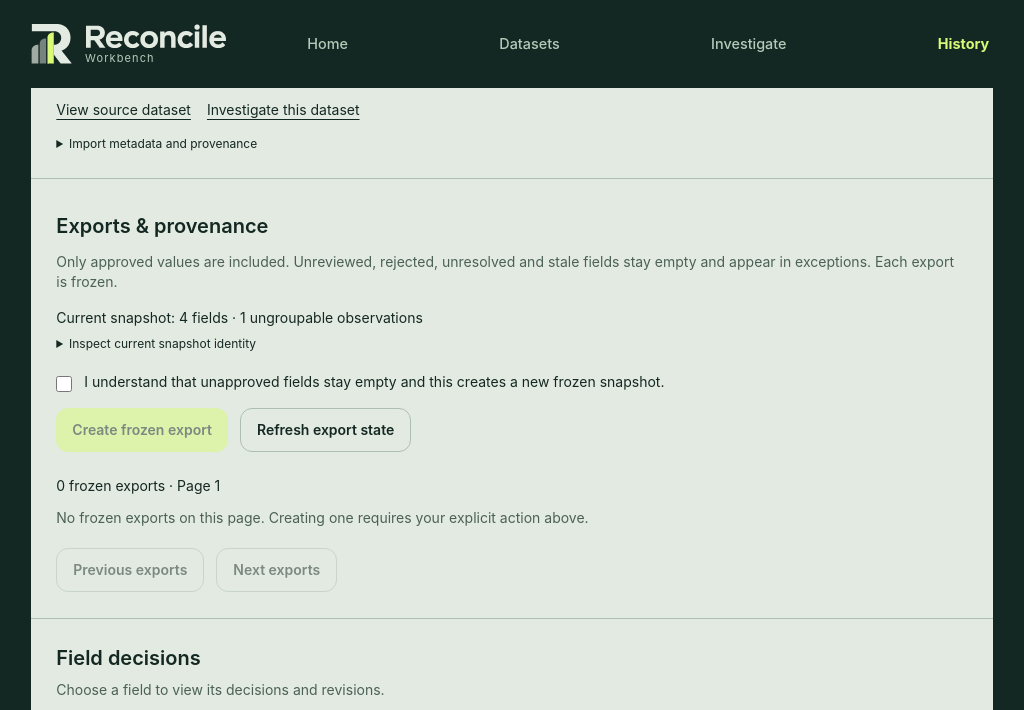
Test: retries an uncertain export with the exact same payload and disables acknowledgement changes
The image size is (1024, 710).
(page scrolled)
Check: the text "Current snapshot: 4 fields · 1 ungroupable observations" is shown, box [56, 309, 423, 326]
Click the checkbox labelled "I understand": (64, 384) [56, 376, 72, 392]
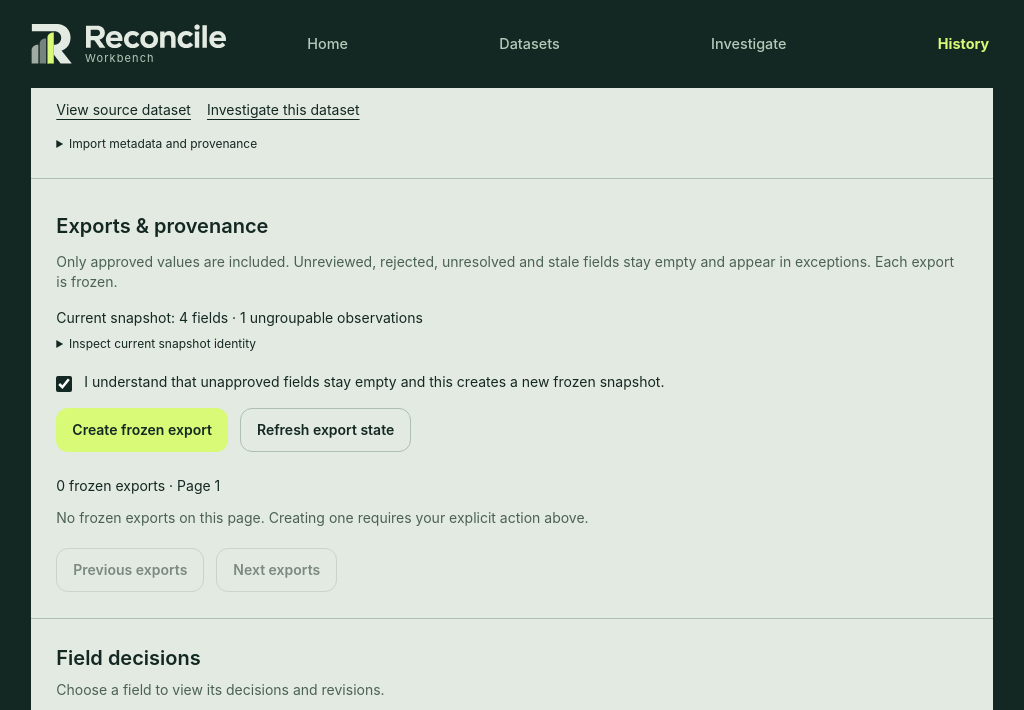
Click the button "Create frozen export": (142, 430) [56, 408, 228, 452]
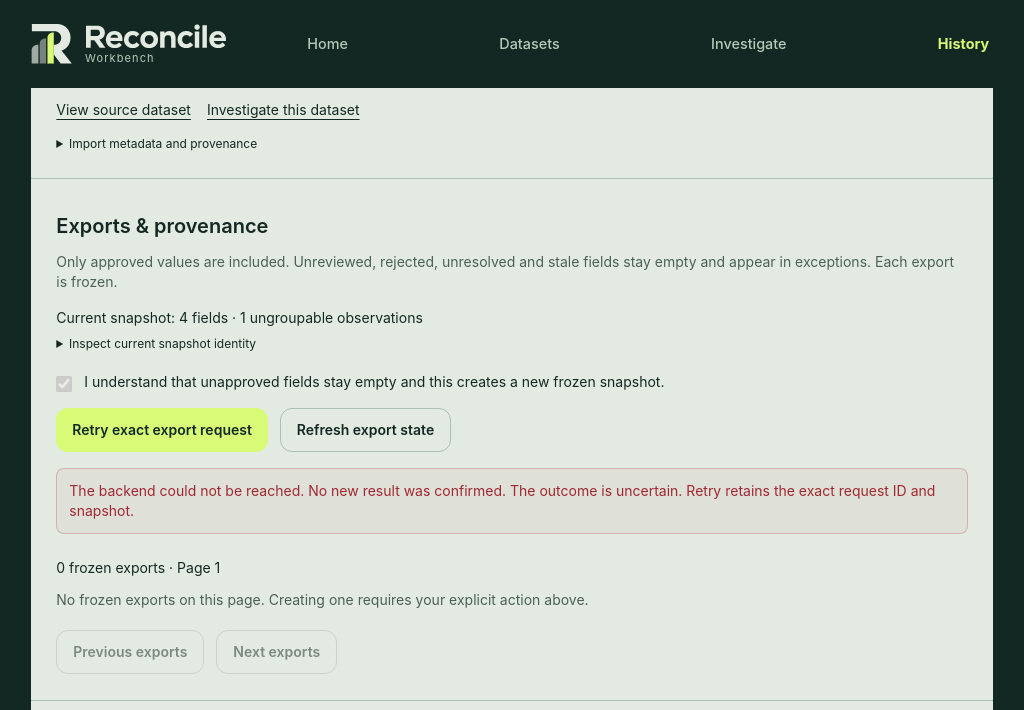
Check: the text "outcome is uncertain" is shown, box [69, 482, 935, 519]
Check: the checkbox is disabled, box [56, 376, 72, 392]
Click the button "Retry exact export request": (162, 430) [56, 408, 268, 452]
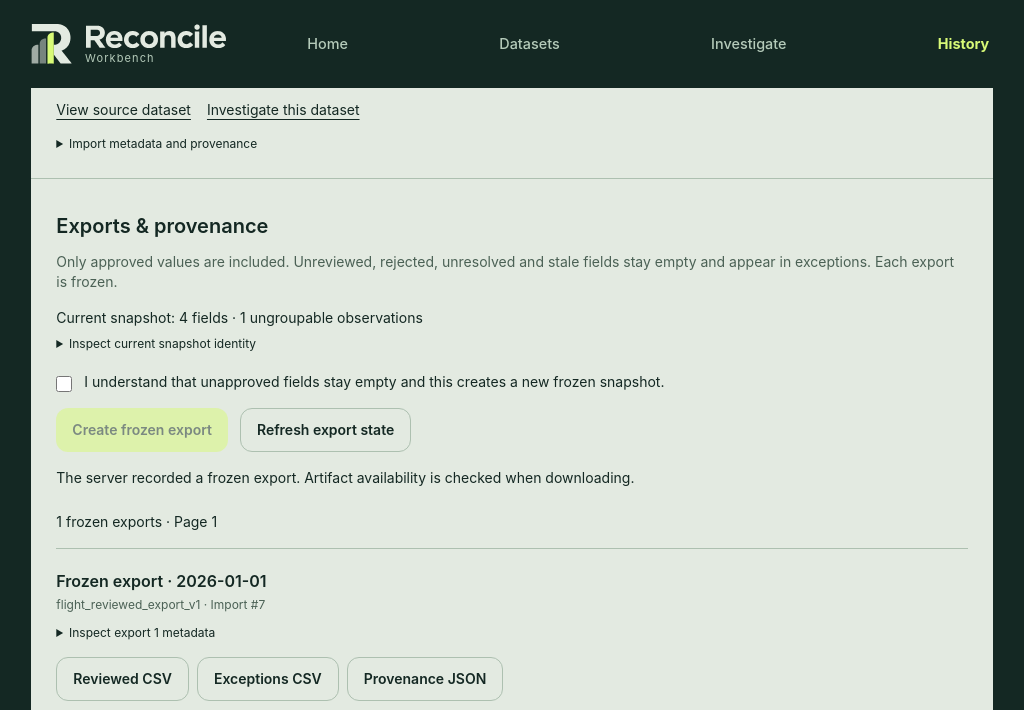
Check: the text "server recorded a frozen export" is shown, box [56, 469, 634, 486]
